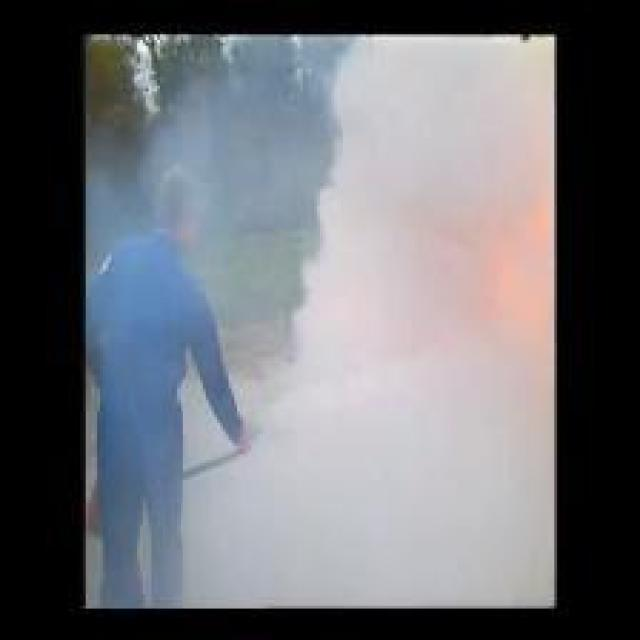smoke: (296, 41, 551, 602)
